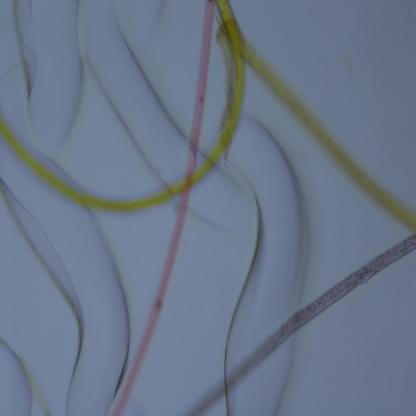Background material: (10, 5, 186, 177), (0, 216, 134, 410), (198, 128, 316, 338)
Microfibre: (0, 1, 247, 217), (110, 1, 214, 415), (218, 20, 416, 233), (185, 235, 416, 414), (16, 354, 52, 414)
